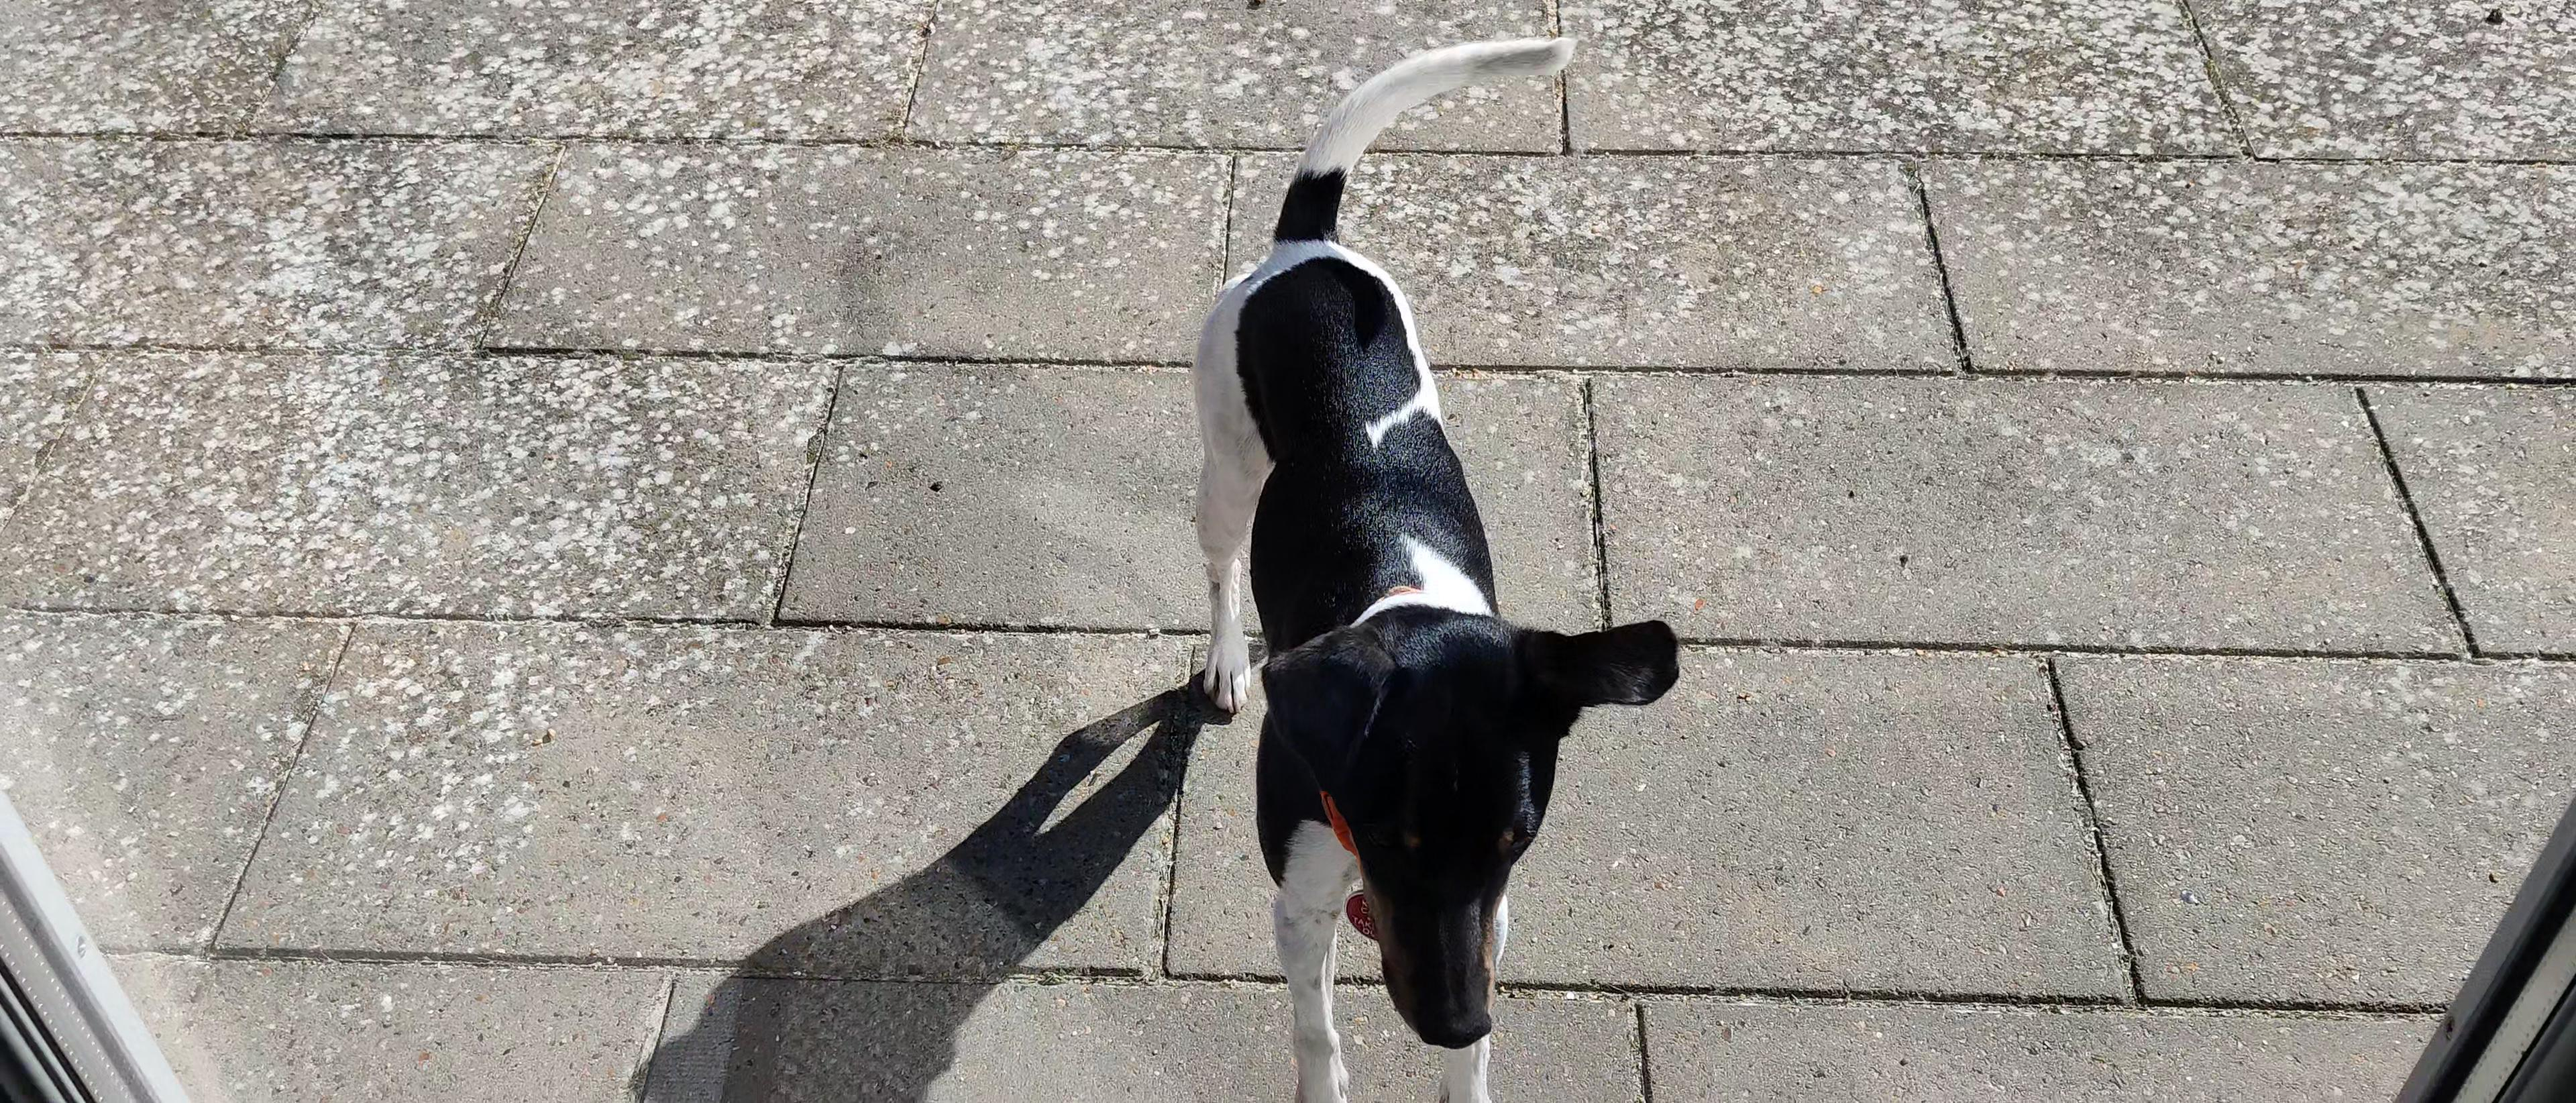Dog: (1142, 13, 1727, 1103)
